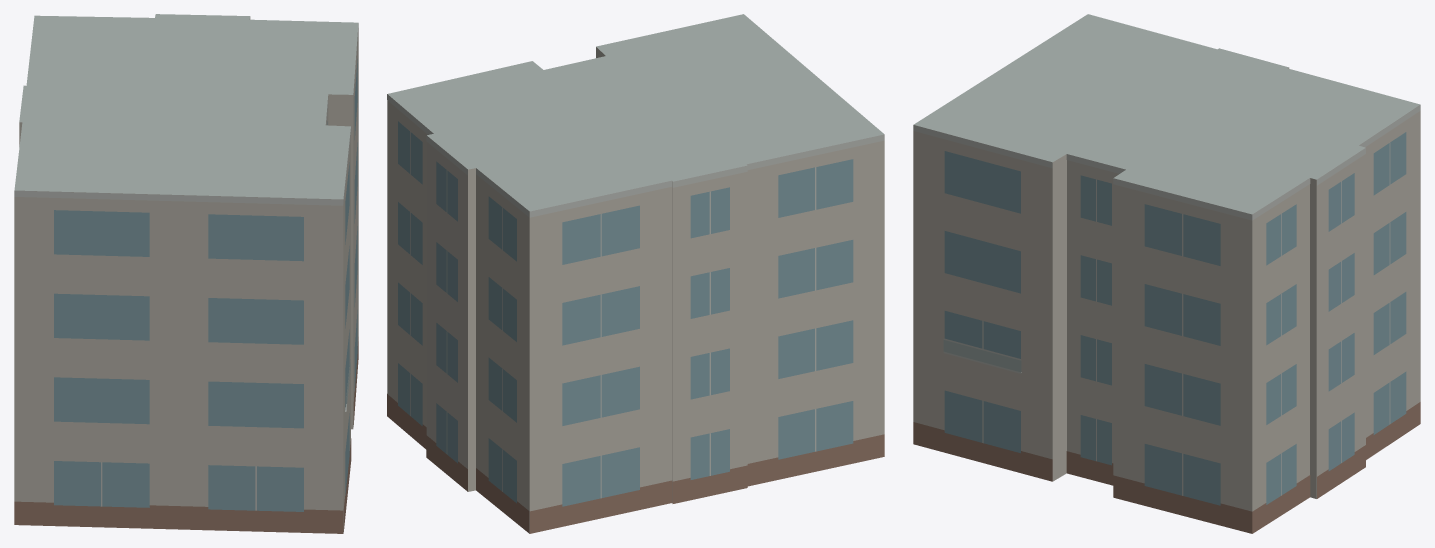
File: survey-upis-33020623.glb
The picture shows the model from 3 angles, left to right: view 1: azimuth 30°, elevation 25°; view 2: azimuth 150°, elevation 25°; view 3: azimuth 270°, elevation 25°; orthographic projection. The views are drawn at different scales.
Parts seen in each view (by area): view 1: survey-upis-33020623.tmp; view 2: survey-upis-33020623.tmp; view 3: survey-upis-33020623.tmp.
Part boxes in pixels (left/top/right/bottom): survey-upis-33020623.tmp: left=14, top=14, right=358, bottom=533; survey-upis-33020623.tmp: left=387, top=14, right=884, bottom=533; survey-upis-33020623.tmp: left=913, top=14, right=1420, bottom=533.
Size of the model in its own units: 17.24 by 12.8 by 18.43.
